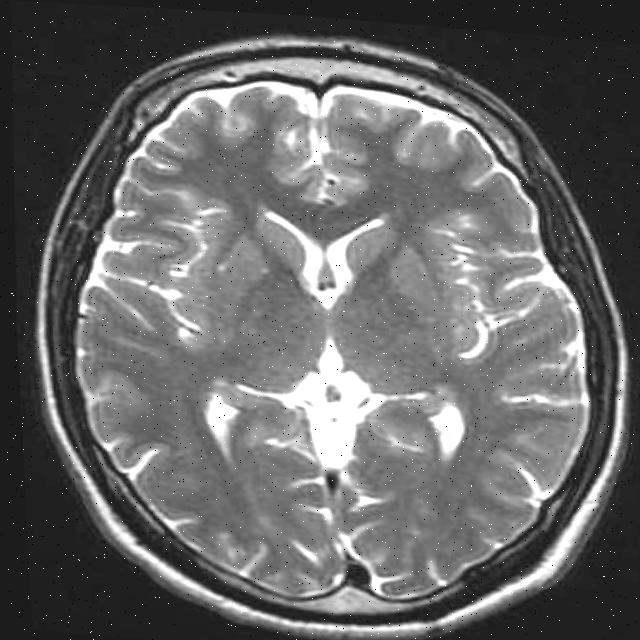NoTumor: (4, 7, 640, 640)
